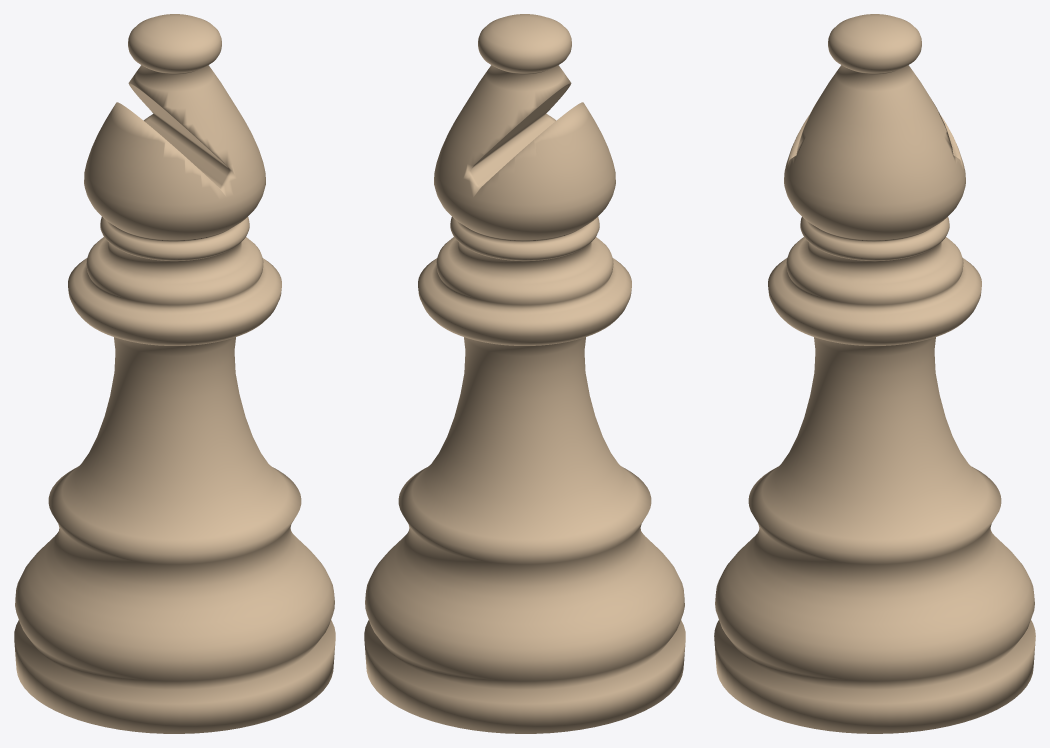
Rendered from bishop.glb.
3 renders of one model, left to right at view 1: azimuth 30°, elevation 25°; view 2: azimuth 150°, elevation 25°; view 3: azimuth 270°, elevation 25°, orthographic.
Parts seen in each view (by area): view 1: White Bishop C1; view 2: White Bishop C1; view 3: White Bishop C1.
Boxes of the visible parts, <box> form: White Bishop C1: <box>14,14,335,733</box>; White Bishop C1: <box>364,14,685,733</box>; White Bishop C1: <box>714,14,1035,733</box>.
Bounding box in the file's own units: 0.1475 × 0.3254 × 0.1475.
